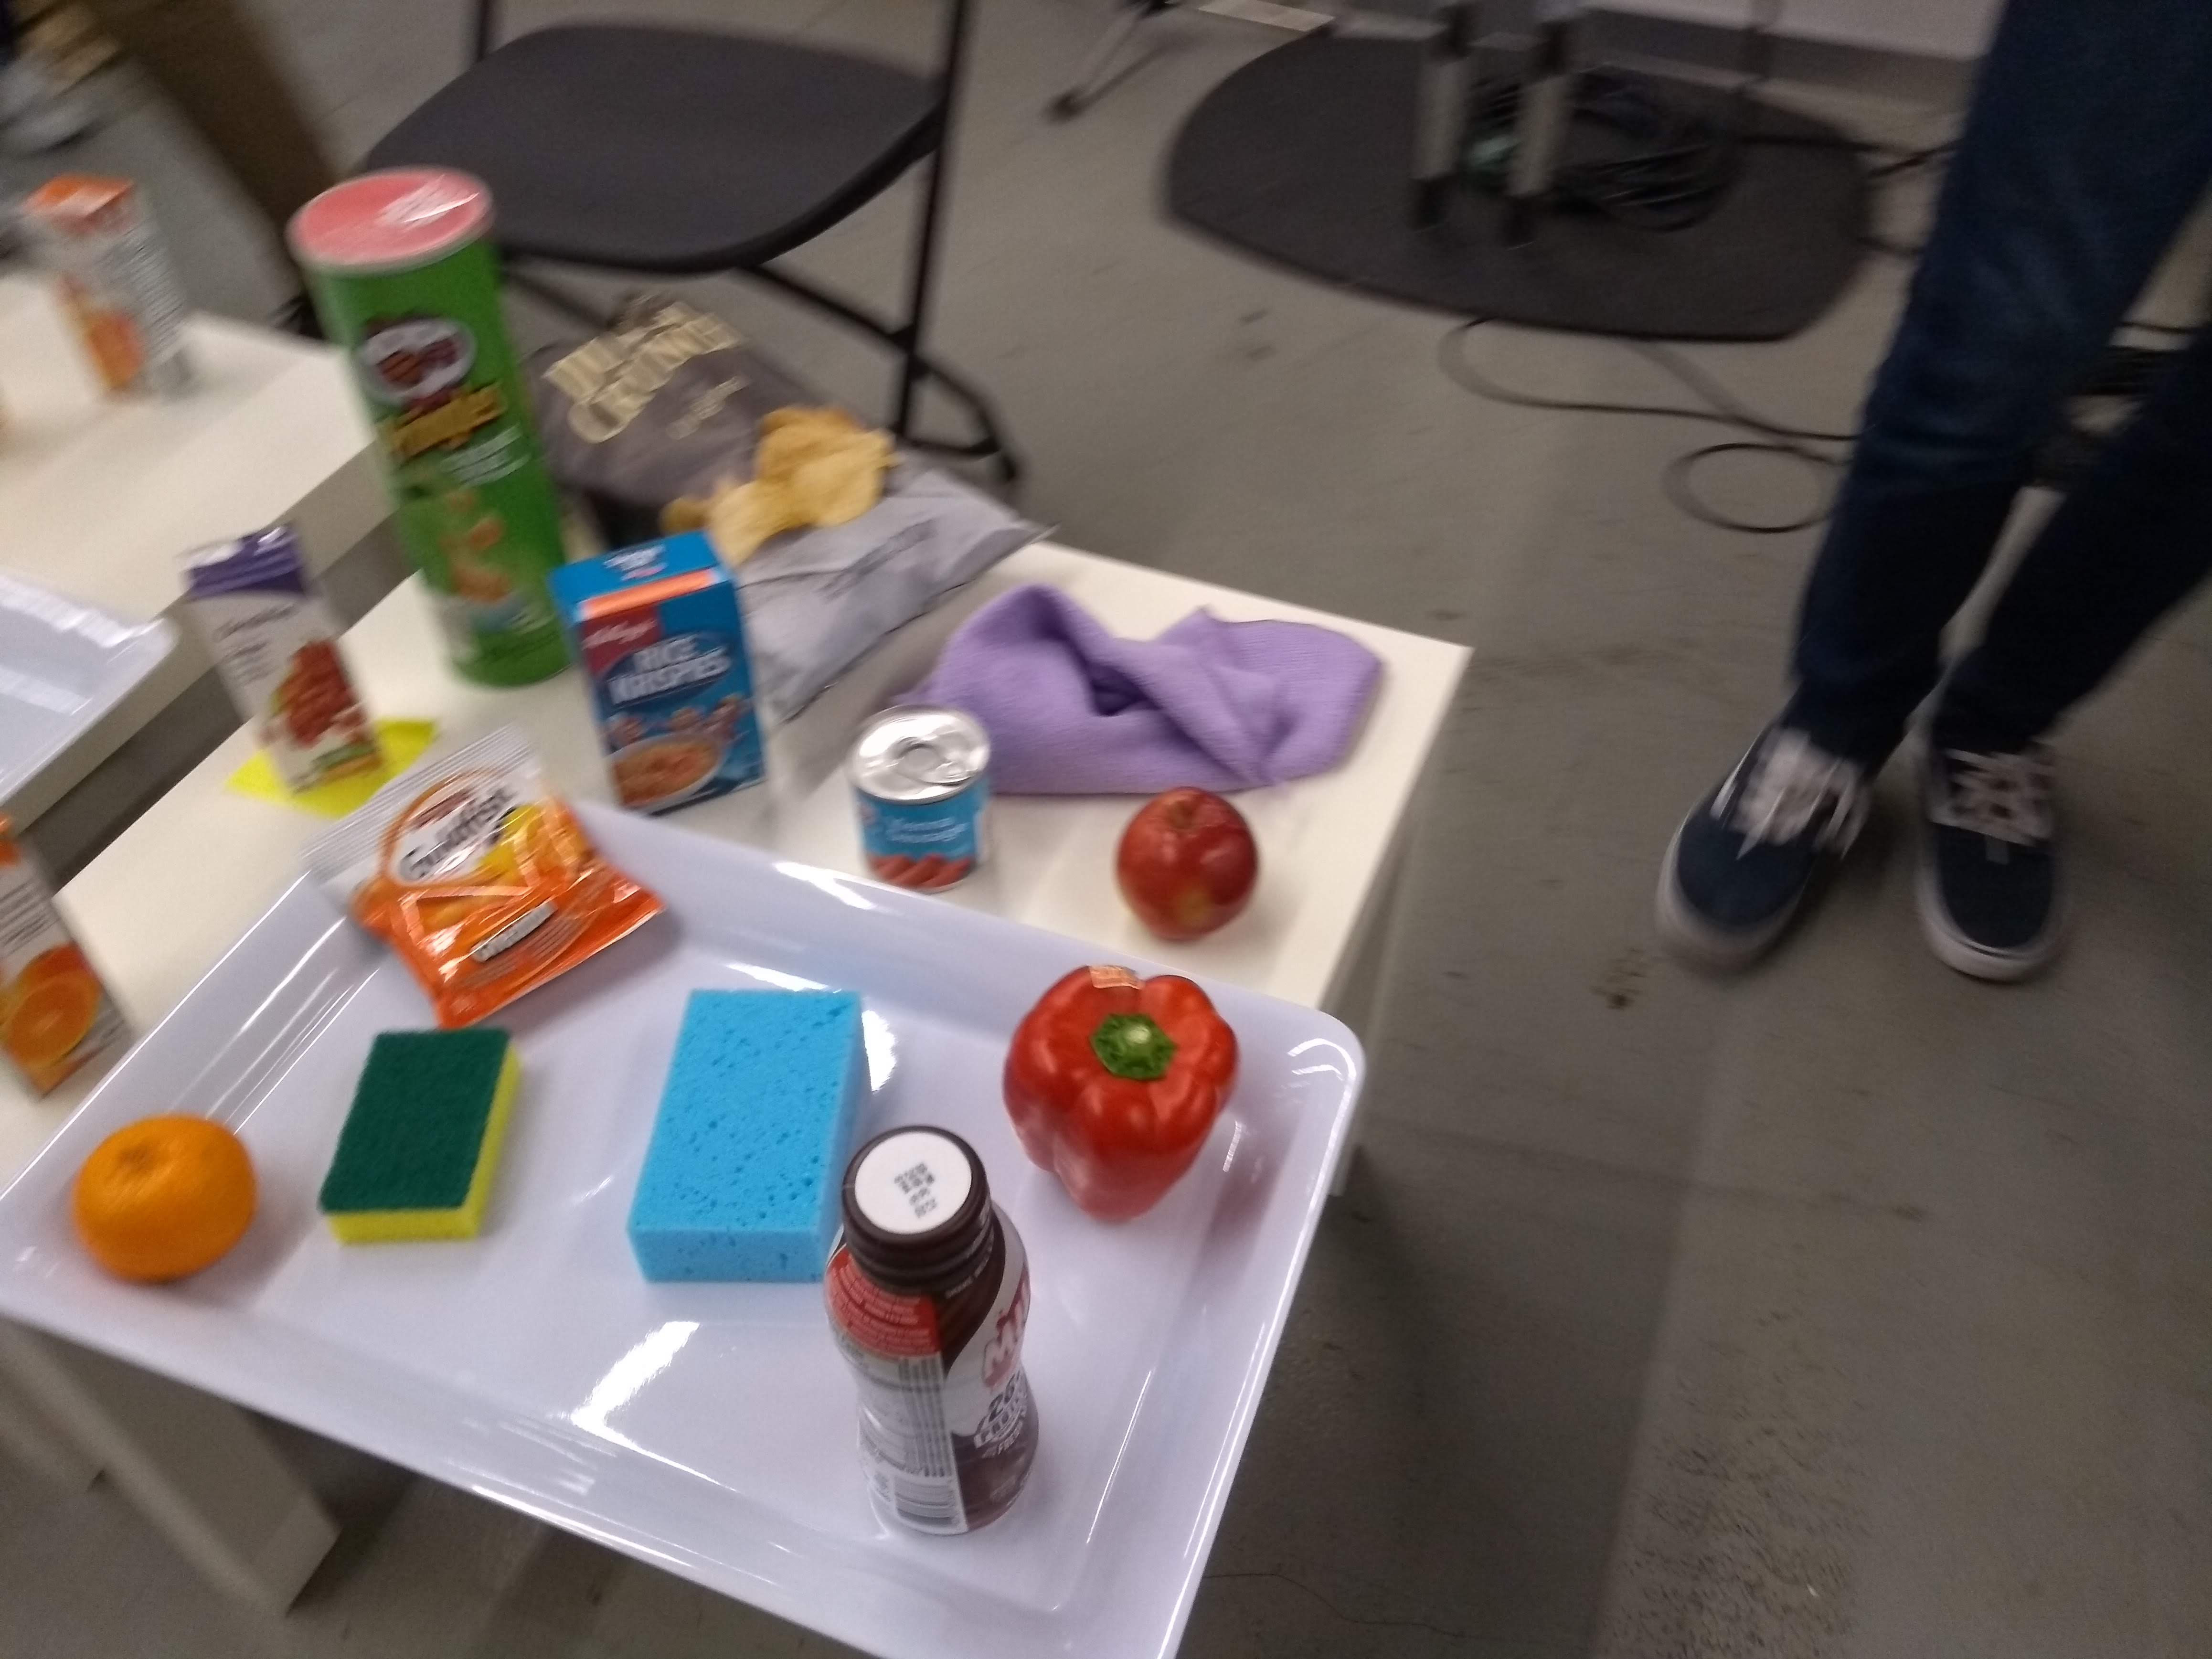apple: (1113, 774, 1266, 945)
cereal: (536, 519, 779, 833)
chocolate_drink: (819, 1126, 1057, 1547)
cloth_opl: (927, 573, 1393, 809)
crackers: (303, 751, 669, 1037)
grape_juice: (176, 512, 399, 803)
orange: (70, 1103, 266, 1295)
paprika: (996, 948, 1245, 1236)
pringles: (279, 153, 592, 695)
sausages: (846, 699, 1001, 904)
scrubby: (312, 1014, 540, 1258)
sponge_opl: (624, 971, 892, 1293)
